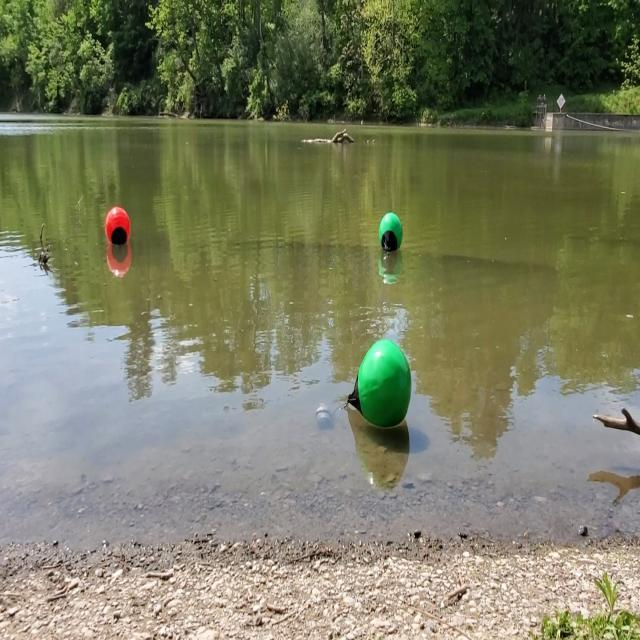buoy: (344, 338, 412, 432), (105, 206, 132, 256), (378, 210, 404, 252)
